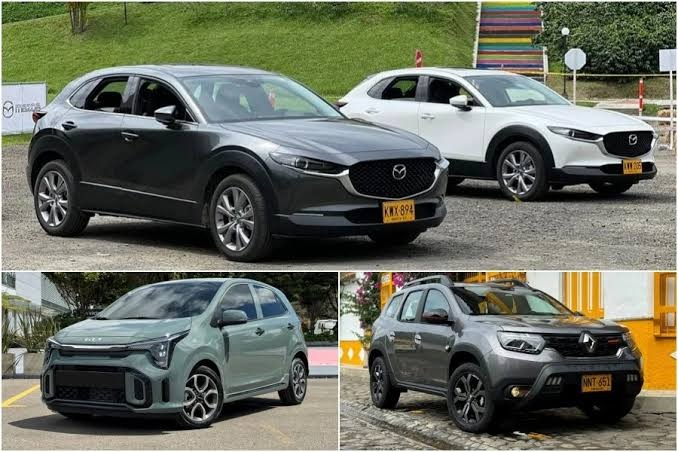car: (23, 60, 426, 259), (21, 63, 423, 256), (357, 273, 650, 428), (331, 71, 668, 196), (40, 275, 306, 425)
